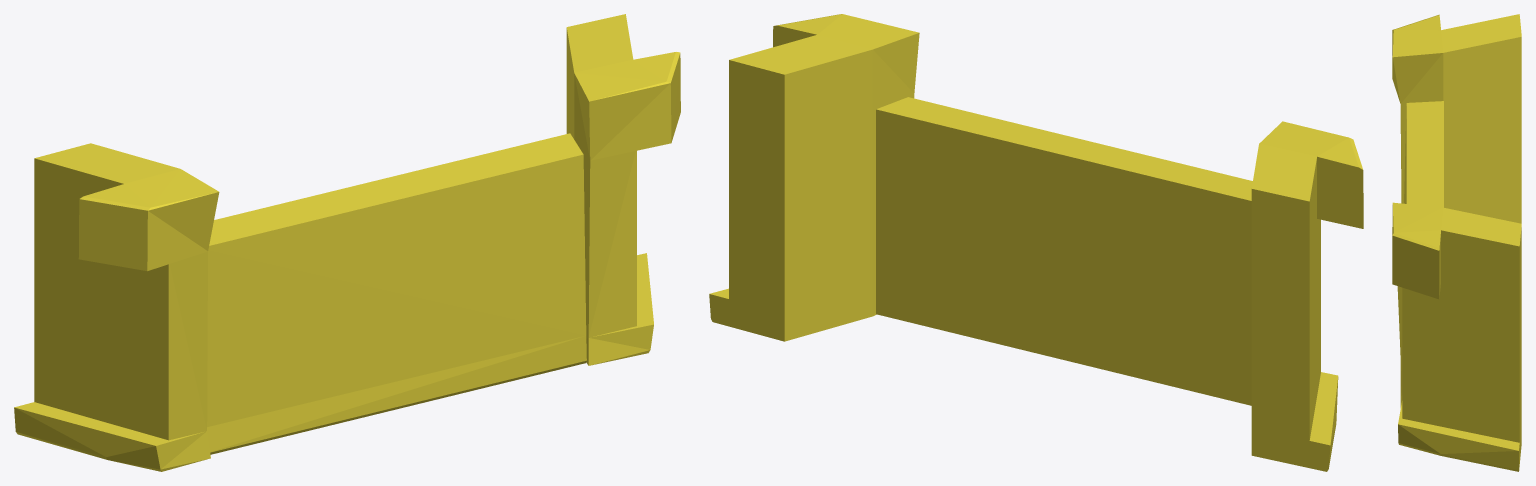
The model's file is TopoHexagonal.Low.fbx.
3 renders of one model, left to right at view 1: azimuth 30°, elevation 25°; view 2: azimuth 150°, elevation 25°; view 3: azimuth 270°, elevation 25°, orthographic. The views are drawn at different scales.
Parts seen in each view (by area): view 1: TopoHexagonal.Low; view 2: TopoHexagonal.Low; view 3: TopoHexagonal.Low.
Part boxes in pixels (bbox=[...]): TopoHexagonal.Low: bbox=[14, 14, 680, 471]; TopoHexagonal.Low: bbox=[709, 14, 1363, 471]; TopoHexagonal.Low: bbox=[1392, 14, 1521, 471].
Bounding box in the file's own units: 322 × 132 × 70.84.
